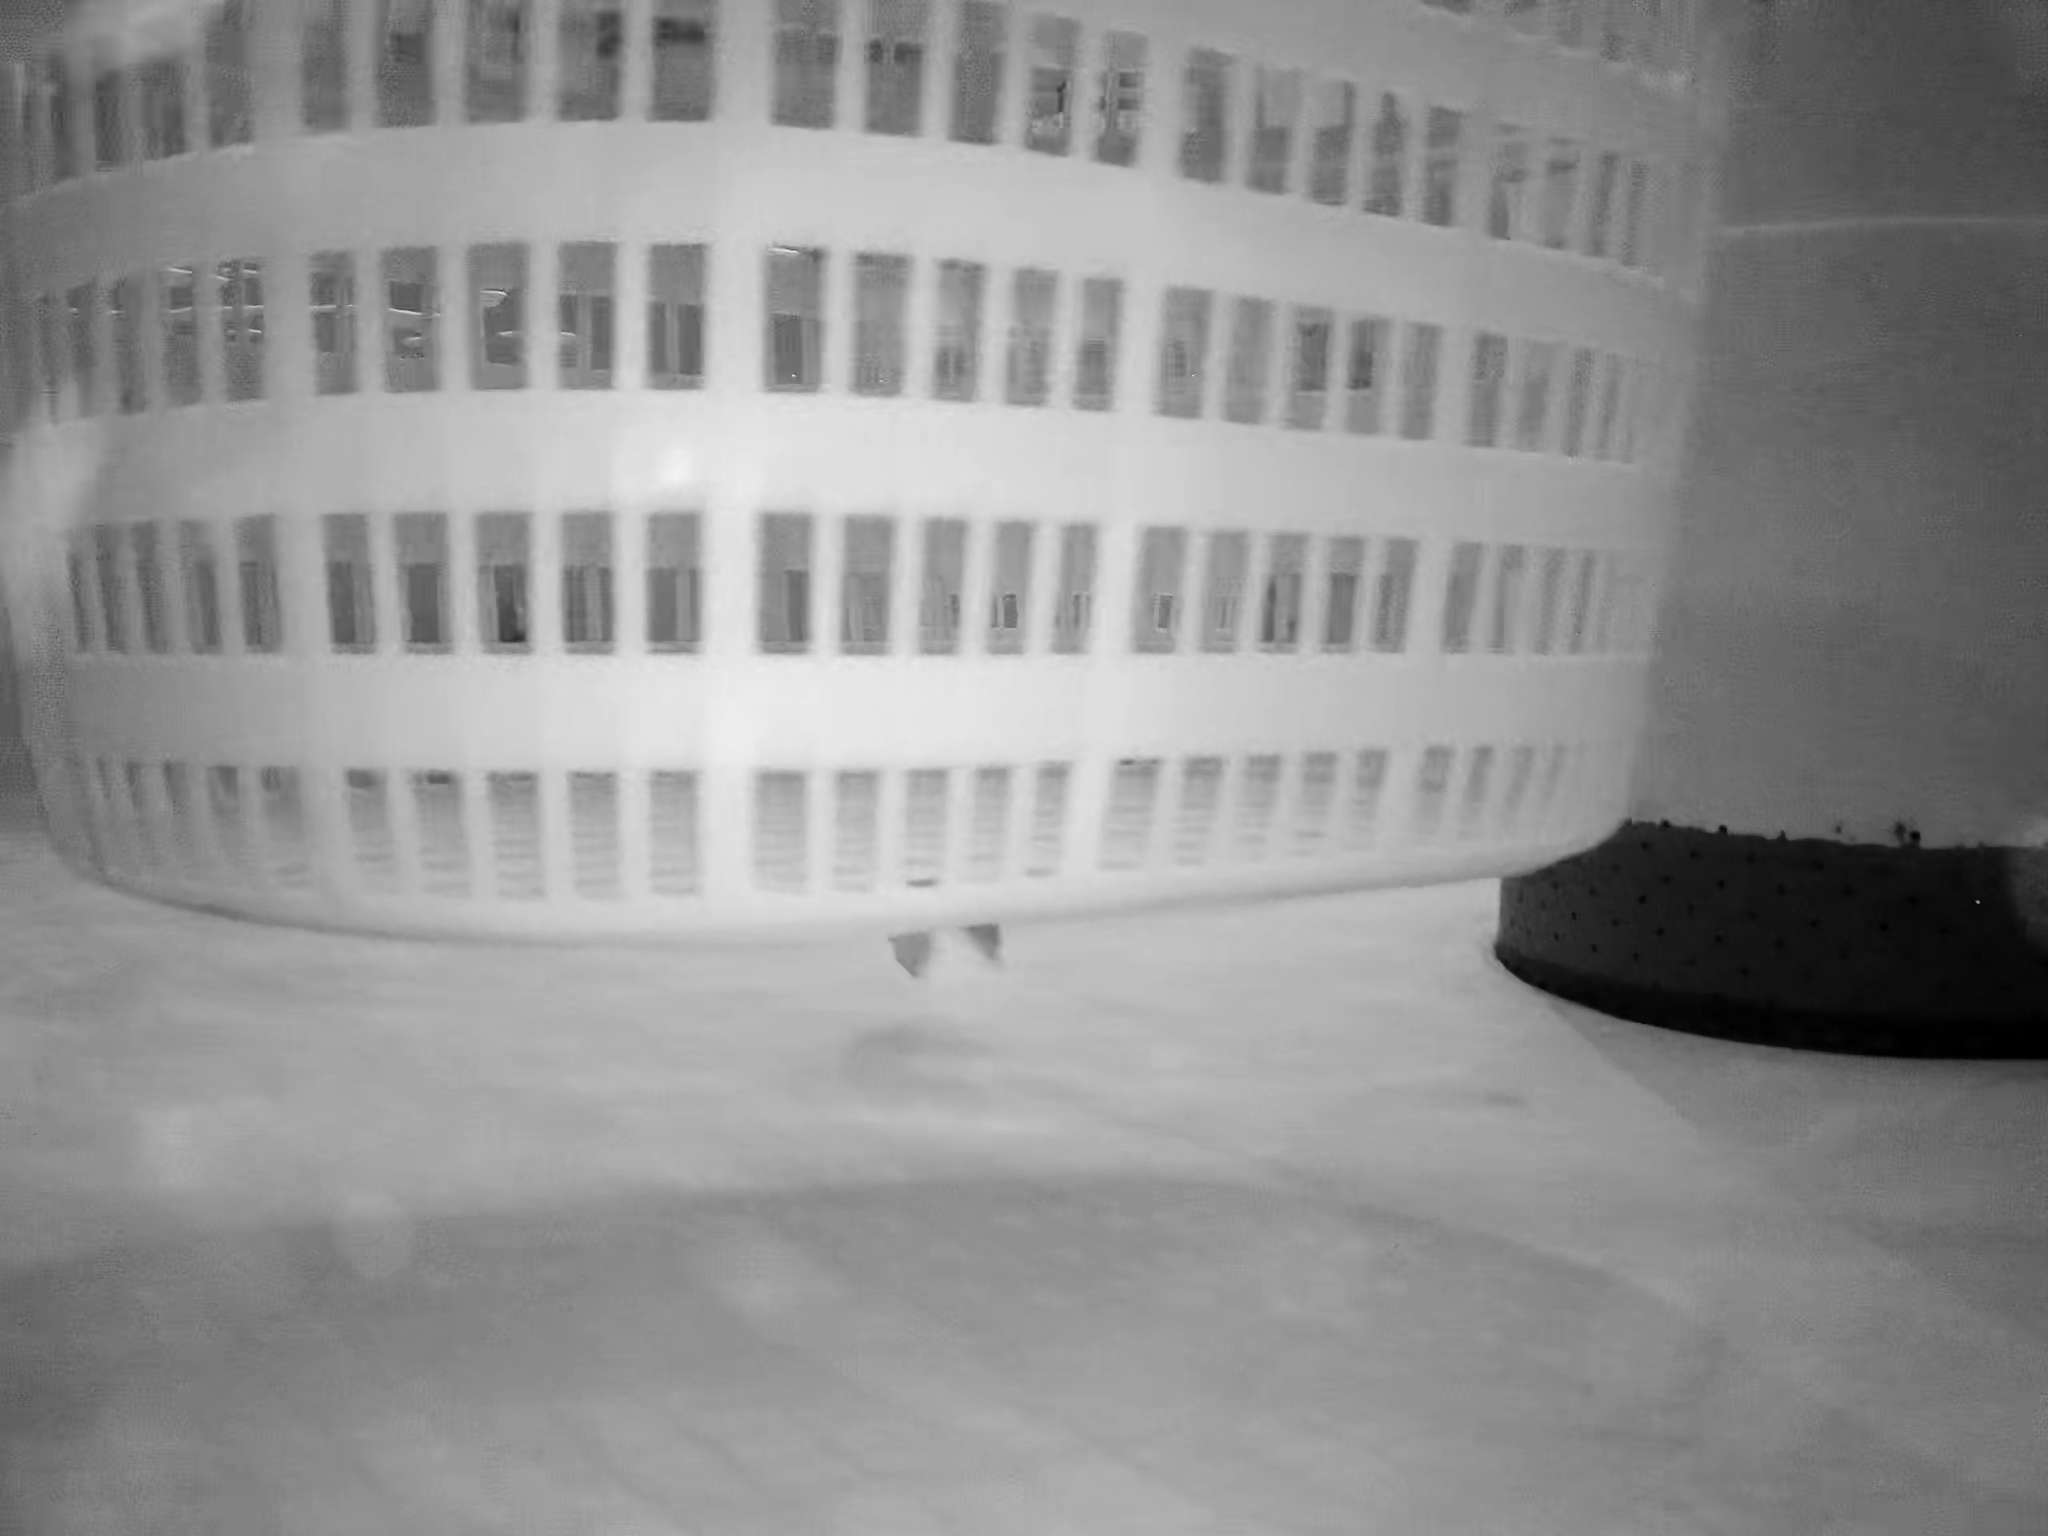fish: (863, 768, 1019, 975)
